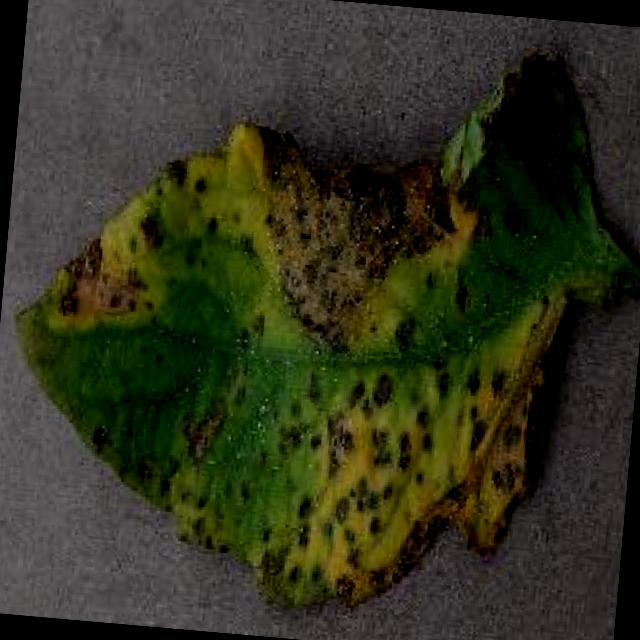bacterial spot: (11, 57, 640, 611)
